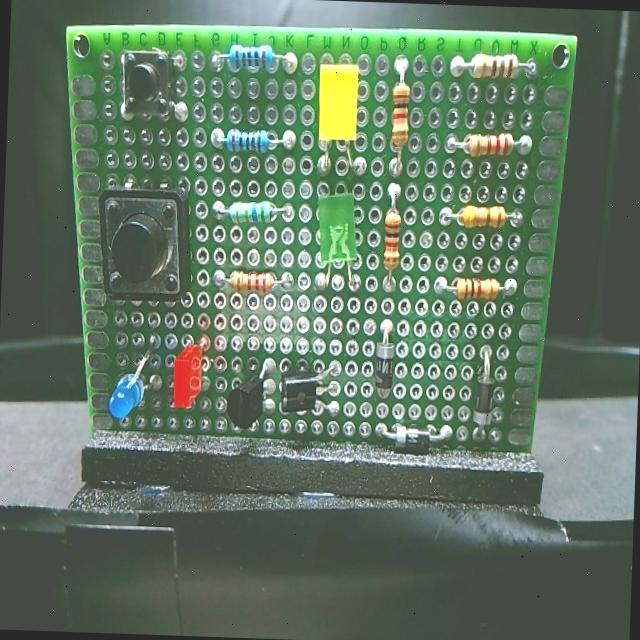diode: (365, 412, 458, 462), (362, 311, 403, 407), (463, 342, 498, 448)
led: (305, 54, 365, 178), (304, 190, 364, 303), (105, 326, 169, 426), (166, 326, 215, 421)
resistor: (380, 51, 420, 181), (444, 46, 540, 96), (374, 177, 412, 296), (209, 184, 299, 233), (440, 124, 538, 168), (204, 42, 304, 84), (204, 118, 295, 164), (200, 260, 296, 303), (425, 266, 521, 308), (434, 206, 524, 242)
switch: (88, 171, 195, 308), (113, 38, 190, 137)
transistor: (220, 349, 280, 438), (274, 355, 346, 429)
